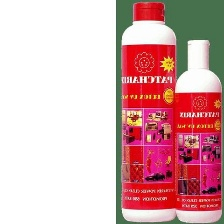cleaning_solution: (118, 0, 178, 224), (171, 37, 224, 224)
